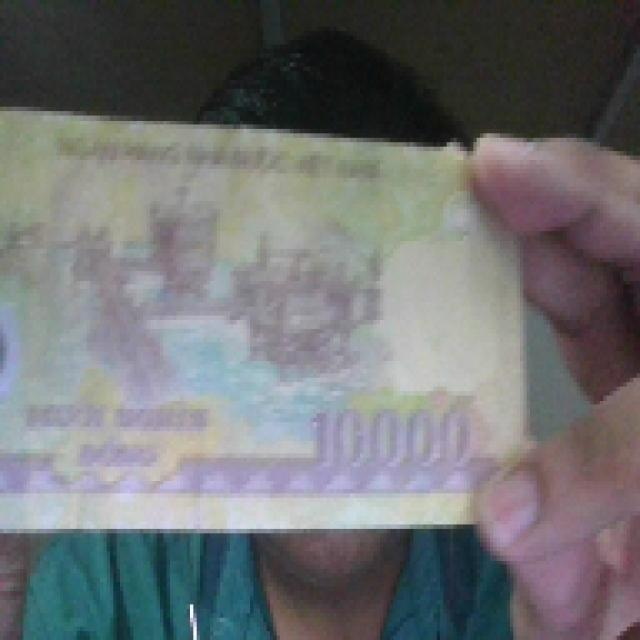10 000 VND: (0, 98, 533, 538)
